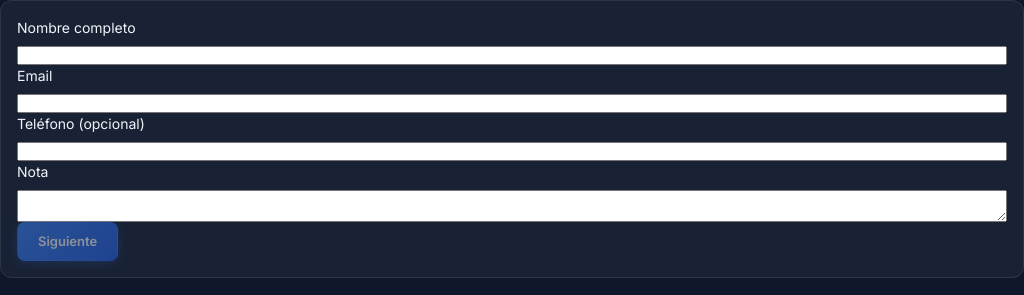
Test: US_015, US_016, US_019: Formulario de Datos del Paciente › 6. El botón "Siguiente" se habilita solo cuando nombre y email son válidos
The width and height of the screenshot is (1024, 295).
Expected: the button "Siguiente" is disabled, [17,222,118,261]
Note: Act — completamos el nombre con 3+ caracteres
In the field labelled "Nombre completo": (512,56) [17,46,1007,65], type "María García"
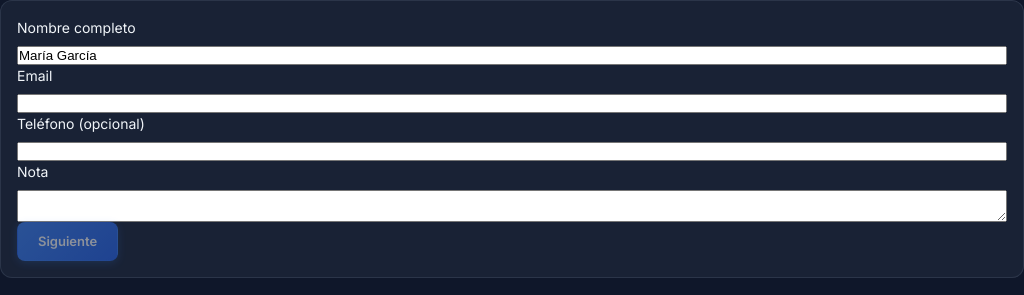
Expected: the button "Siguiente" is disabled, [17,222,118,261]
Note: Act — completamos el email con formato válido
In the field labelled "Email": (512,104) [17,94,1007,113], type "maria@clinica.com"
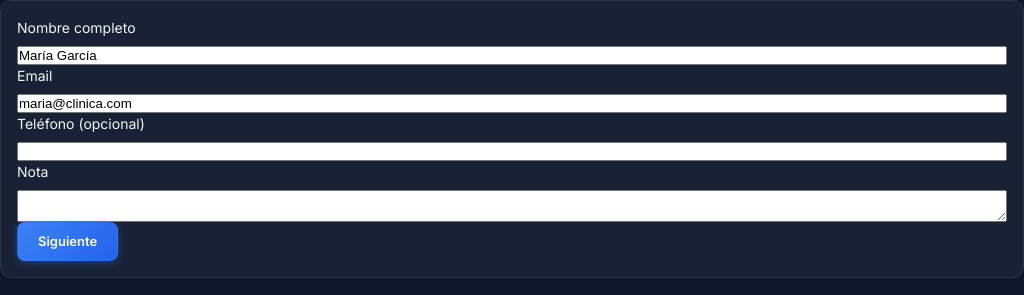
Expected: the button "Siguiente" is enabled, [17,222,118,261]
